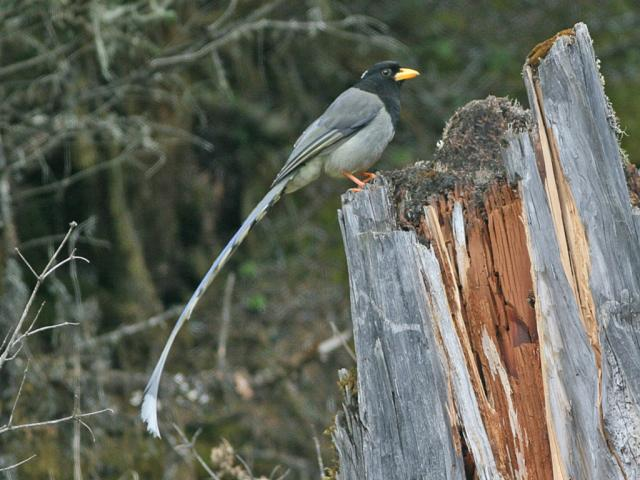Bird: (139, 54, 422, 439)
